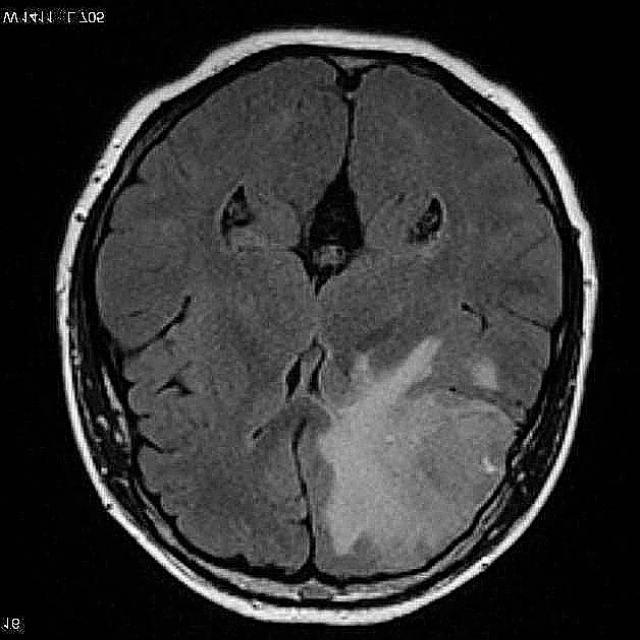Tumor-Cell: (307, 321, 509, 579)
